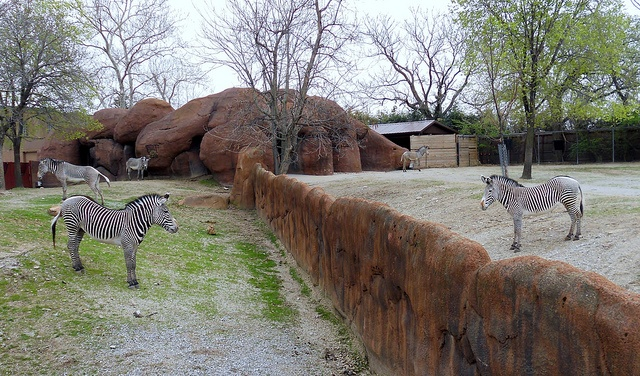zebra: (49, 192, 179, 289), (477, 174, 583, 254)
